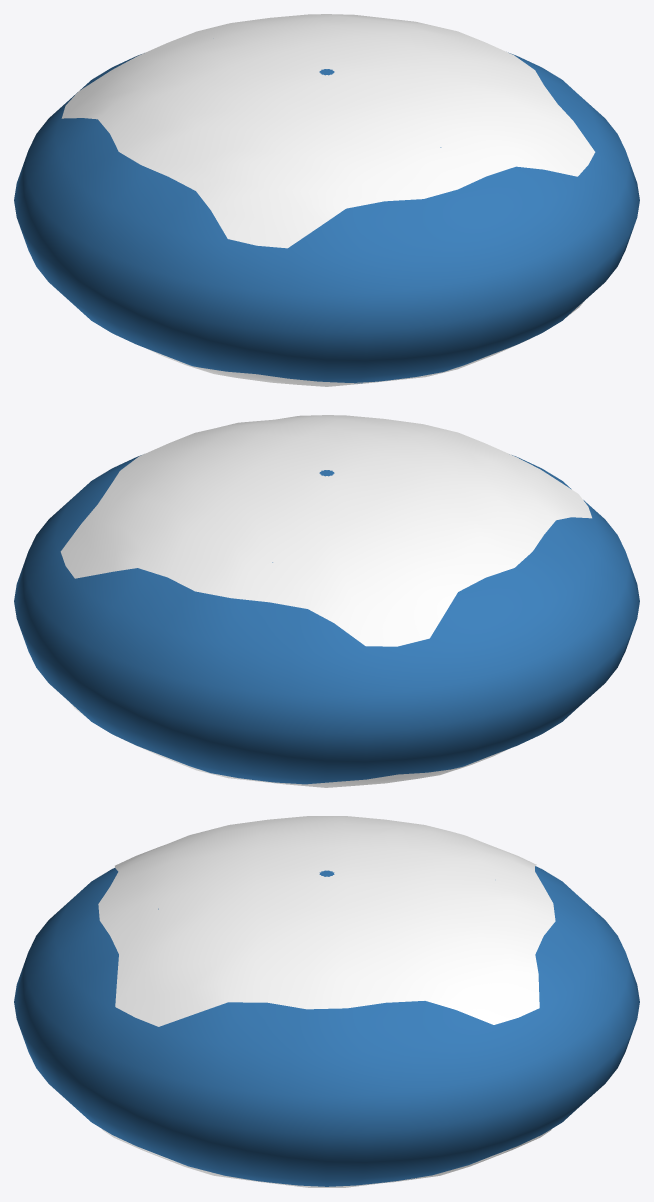
The model's file is yy巧克力_藍色.glb.
3 renders of one model, top to bottom at view 1: azimuth 30°, elevation 25°; view 2: azimuth 150°, elevation 25°; view 3: azimuth 270°, elevation 25°, orthographic.
Parts seen in each view (by area): view 1: Cube, y, y.001; view 2: Cube, y, y.001; view 3: Cube, y, y.001.
Part boxes in pixels (x1=…): Cube: x1=14, y1=52, x2=639, y2=383; y: x1=61, y1=14, x2=595, y2=248; y.001: x1=146, y1=301, x2=584, y2=386; Cube: x1=14, y1=455, x2=639, y2=784; y: x1=60, y1=415, x2=591, y2=646; y.001: x1=68, y1=701, x2=507, y2=787; Cube: x1=14, y1=866, x2=639, y2=1186; y: x1=98, y1=816, x2=555, y2=1026; y.001: x1=102, y1=1129, x2=551, y2=1187.
Bounding box in the file's own units: 3.39 × 1.54 × 3.39.
2 materials, 1 textured.
